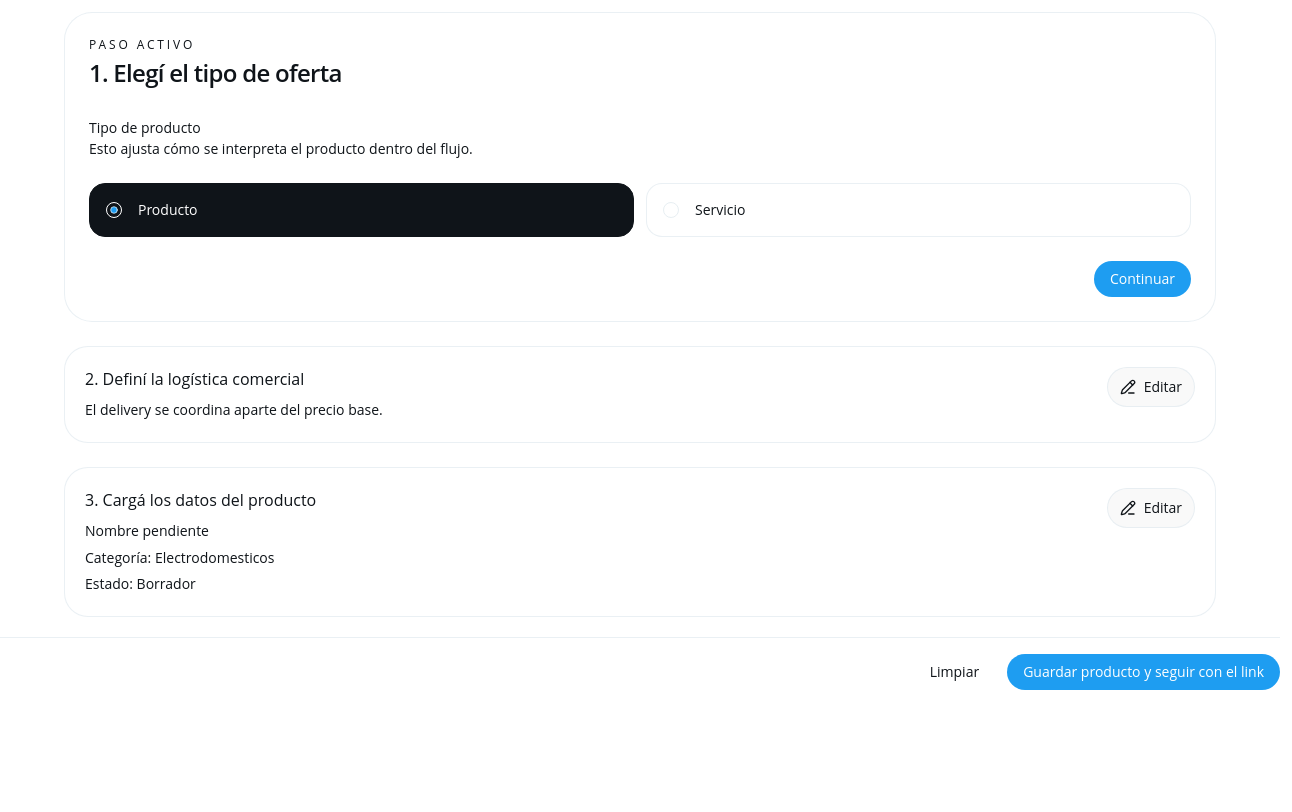
Test: add product form › shows stock again when switching back from service to product
Click the text "Servicio" at (720, 210), box [695,200,746,220]
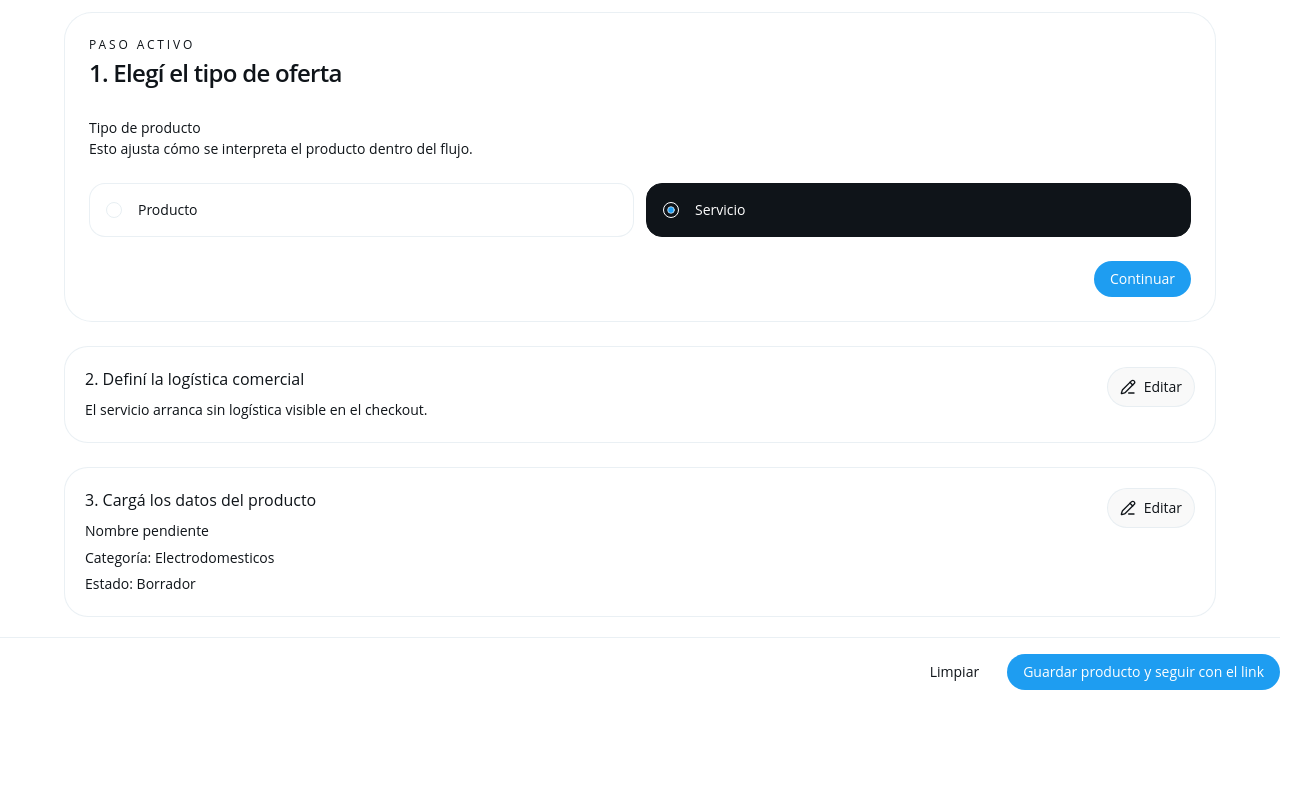
Click the text "Producto" at (168, 210), box [138,200,198,220]
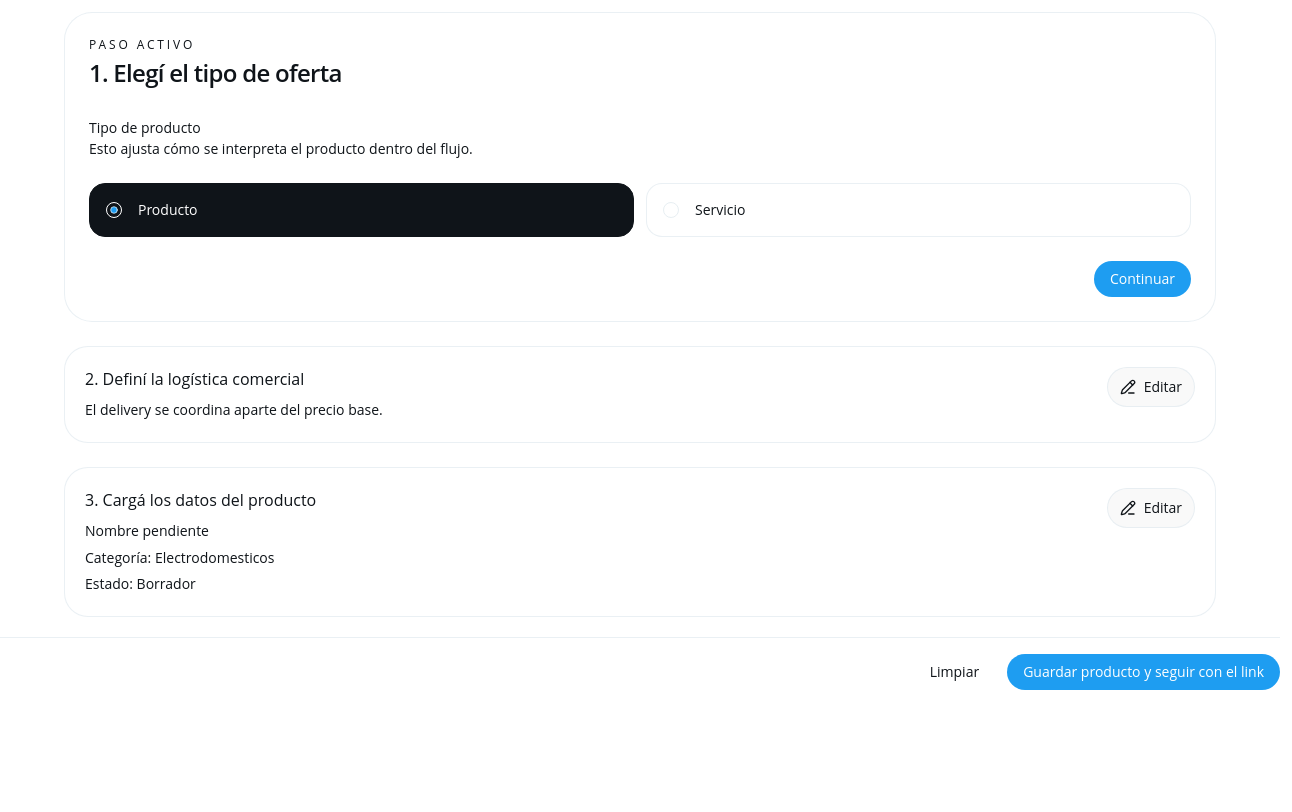
Click the button "Continuar" at (1142, 279), box [1094,261,1191,297]
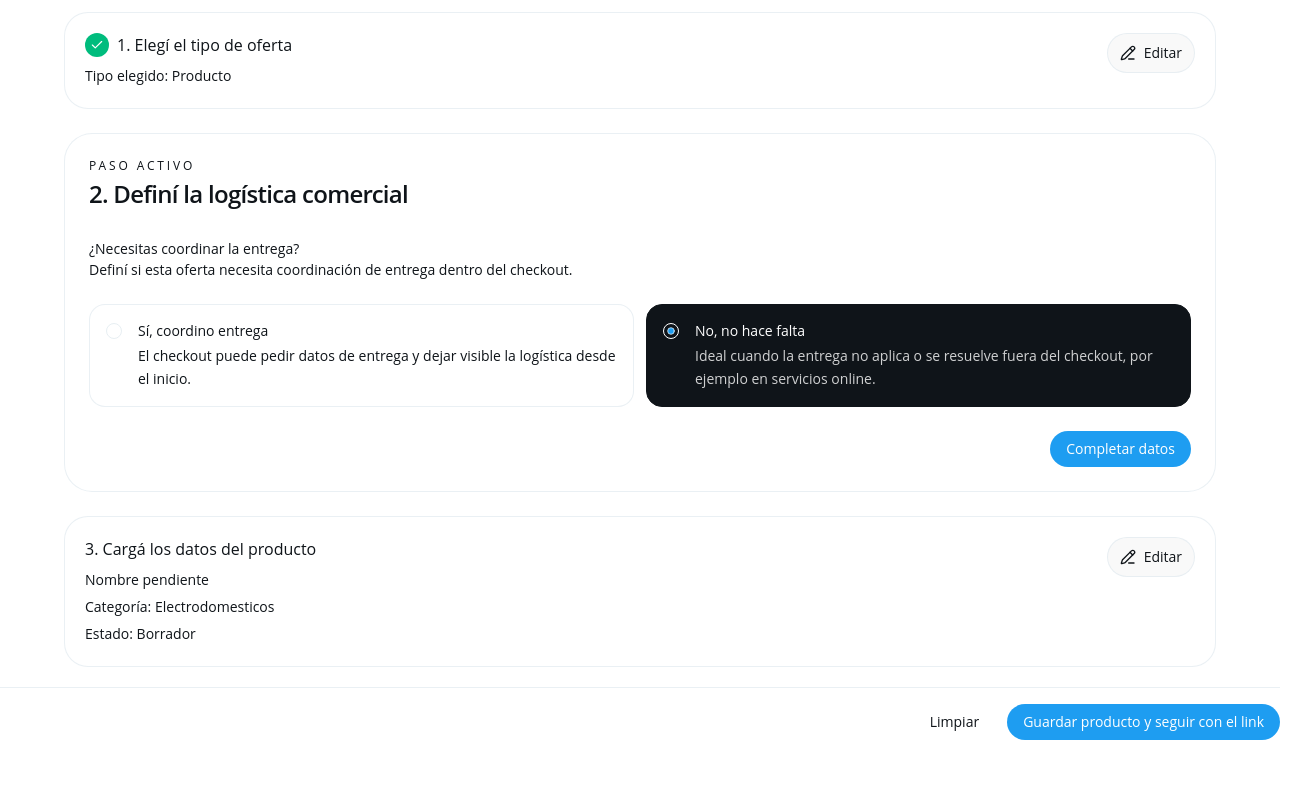
Click the button "Completar datos" at (1121, 449), box [1050,431,1191,467]
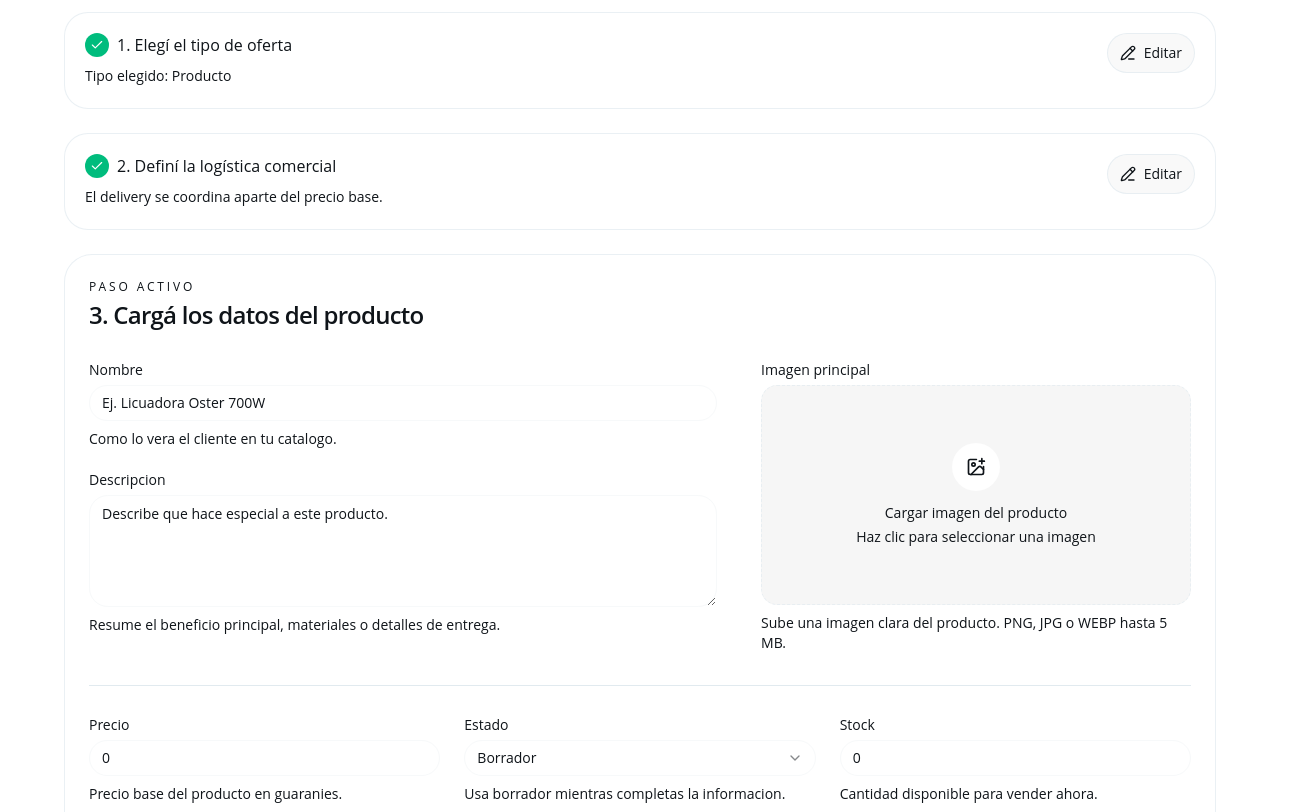
Result: the number field labelled "Stock" is shown at [840,740,1191,776]
